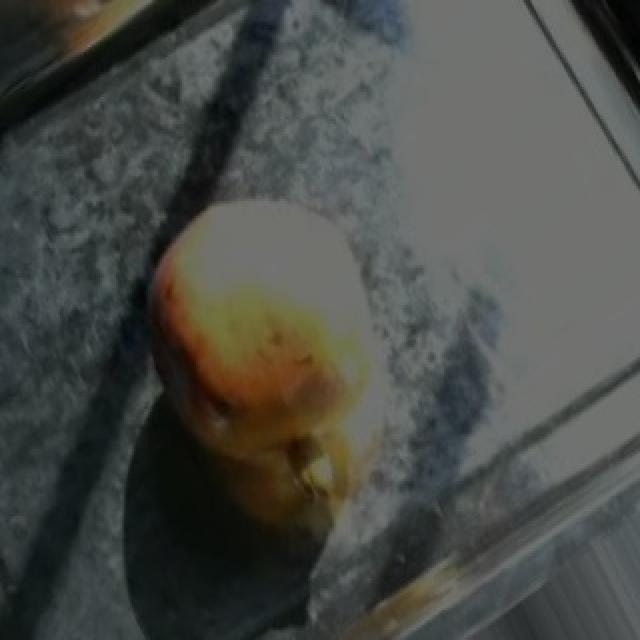fruit: (118, 208, 338, 486)
